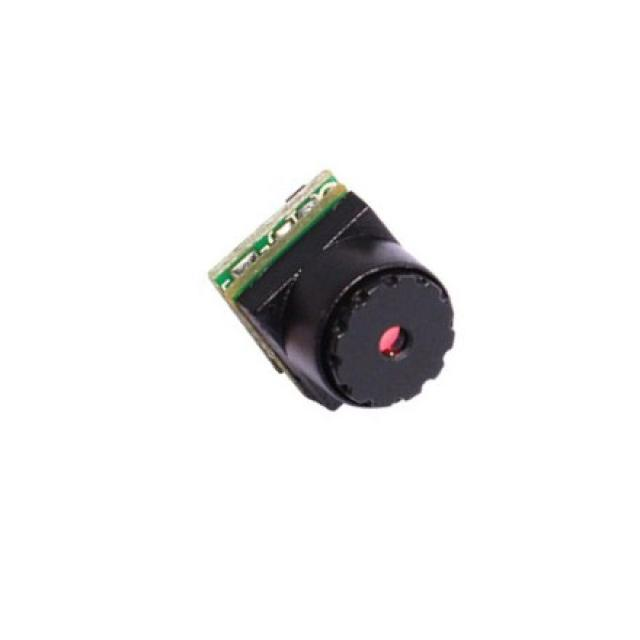hidden camera: (231, 189, 550, 484)
